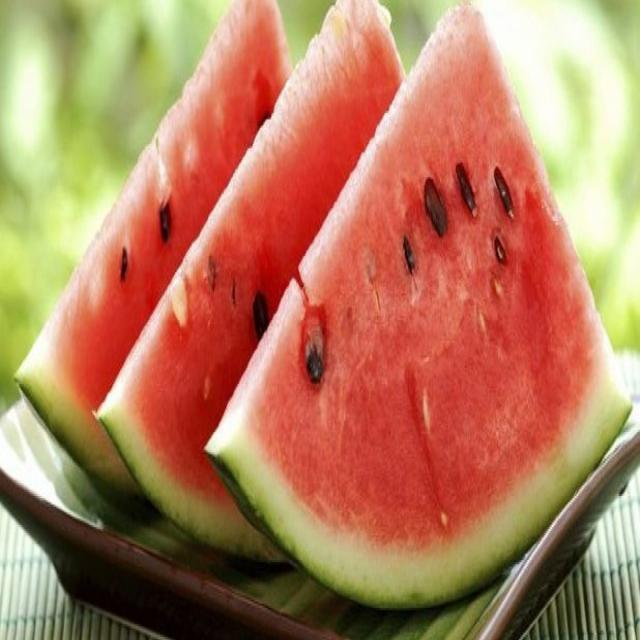WATERMELON: (206, 0, 634, 605), (98, 0, 402, 539), (16, 0, 290, 514)
